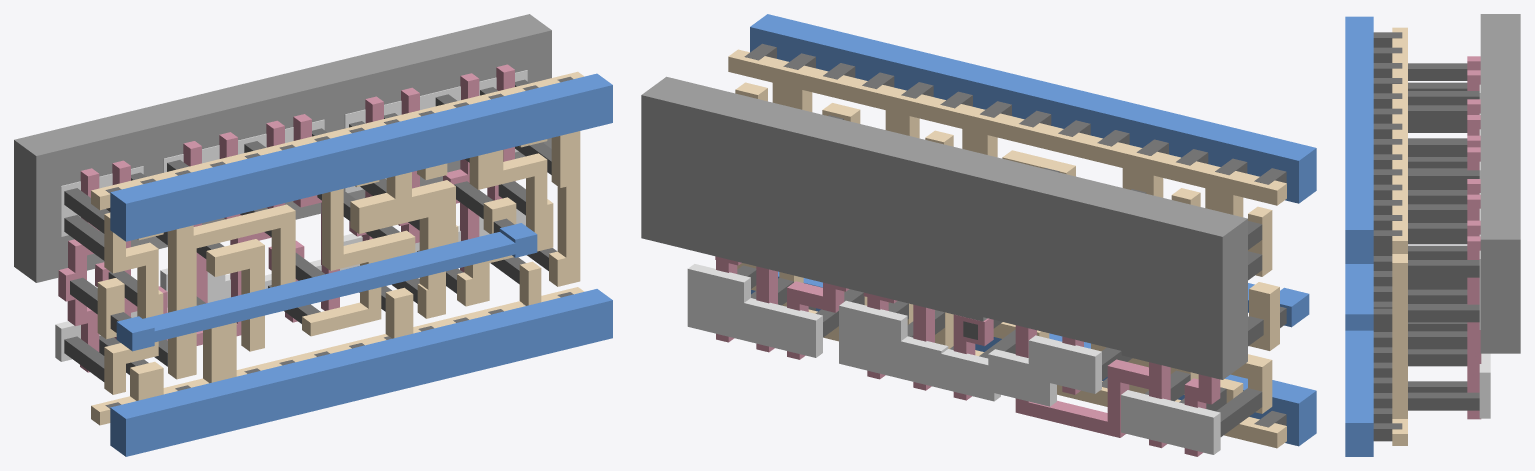
File: sky130_fd_sc_hd__dlclkp_1.gds.gltf
The picture shows the model from 3 angles, left to right: view 1: azimuth 30°, elevation 25°; view 2: azimuth 150°, elevation 25°; view 3: azimuth 270°, elevation 25°; orthographic projection. The views are drawn at different scales.
Visible parts, largest first — view 1: sky130_fd_sc_hd__dlclkp_1_met1, sky130_fd_sc_hd__dlclkp_1_li1, sky130_fd_sc_hd__dlclkp_1_nwell, sky130_fd_sc_hd__dlclkp_1_poly, sky130_fd_sc_hd__dlclkp_1_licon, sky130_fd_sc_hd__dlclkp_1_diff, sky130_fd_sc_hd__dlclkp_1_mcon; view 2: sky130_fd_sc_hd__dlclkp_1_nwell, sky130_fd_sc_hd__dlclkp_1_li1, sky130_fd_sc_hd__dlclkp_1_diff, sky130_fd_sc_hd__dlclkp_1_met1, sky130_fd_sc_hd__dlclkp_1_poly, sky130_fd_sc_hd__dlclkp_1_licon, sky130_fd_sc_hd__dlclkp_1_mcon; view 3: sky130_fd_sc_hd__dlclkp_1_licon, sky130_fd_sc_hd__dlclkp_1_nwell, sky130_fd_sc_hd__dlclkp_1_met1, sky130_fd_sc_hd__dlclkp_1_mcon, sky130_fd_sc_hd__dlclkp_1_li1, sky130_fd_sc_hd__dlclkp_1_poly, sky130_fd_sc_hd__dlclkp_1_diff.
Boxes of the visible parts, <box> form: sky130_fd_sc_hd__dlclkp_1_met1: <box>110,73,612,456</box>; sky130_fd_sc_hd__dlclkp_1_li1: <box>91,71,584,425</box>; sky130_fd_sc_hd__dlclkp_1_nwell: <box>14,14,551,282</box>; sky130_fd_sc_hd__dlclkp_1_poly: <box>58,64,515,372</box>; sky130_fd_sc_hd__dlclkp_1_licon: <box>64,79,557,381</box>; sky130_fd_sc_hd__dlclkp_1_diff: <box>55,70,527,361</box>; sky130_fd_sc_hd__dlclkp_1_mcon: <box>105,76,573,408</box>; sky130_fd_sc_hd__dlclkp_1_nwell: <box>641,76,1247,379</box>; sky130_fd_sc_hd__dlclkp_1_li1: <box>728,49,1286,448</box>; sky130_fd_sc_hd__dlclkp_1_diff: <box>687,264,1220,454</box>; sky130_fd_sc_hd__dlclkp_1_met1: <box>750,14,1316,446</box>; sky130_fd_sc_hd__dlclkp_1_poly: <box>715,256,1220,456</box>; sky130_fd_sc_hd__dlclkp_1_licon: <box>737,115,1263,436</box>; sky130_fd_sc_hd__dlclkp_1_mcon: <box>744,43,1286,427</box>; sky130_fd_sc_hd__dlclkp_1_licon: <box>1408,63,1479,410</box>; sky130_fd_sc_hd__dlclkp_1_nwell: <box>1480,14,1520,353</box>; sky130_fd_sc_hd__dlclkp_1_met1: <box>1345,16,1373,456</box>; sky130_fd_sc_hd__dlclkp_1_mcon: <box>1373,32,1402,441</box>; sky130_fd_sc_hd__dlclkp_1_li1: <box>1392,27,1407,445</box>; sky130_fd_sc_hd__dlclkp_1_poly: <box>1467,56,1481,419</box>; sky130_fd_sc_hd__dlclkp_1_diff: <box>1479,84,1490,418</box>.
Bounding box in the file's own units: 6.82 × 3.2 × 2.24.
